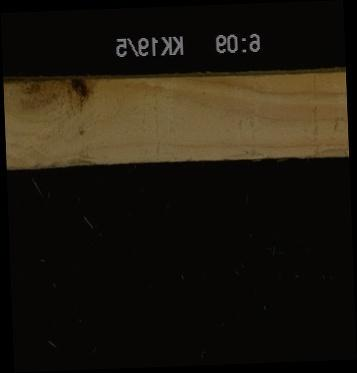wave: (28, 152, 105, 166), (220, 144, 269, 159), (302, 144, 348, 156)
